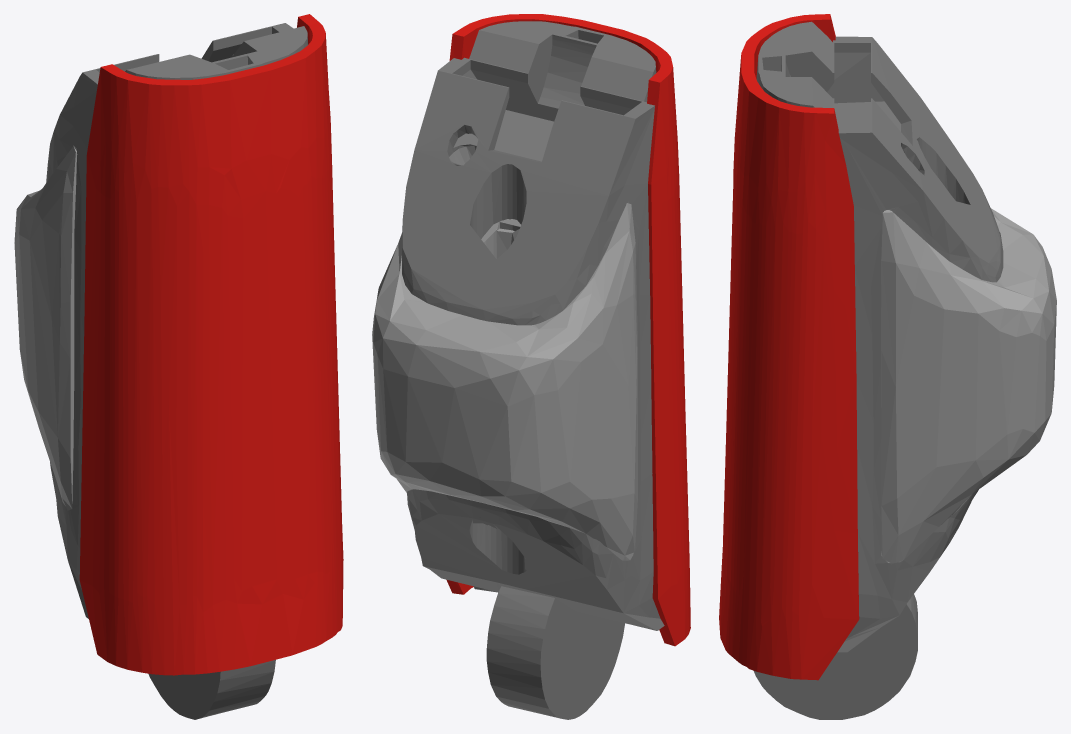
File: Index Proximal.dae
The picture shows the model from 3 angles, left to right: view 1: azimuth 30°, elevation 25°; view 2: azimuth 150°, elevation 25°; view 3: azimuth 270°, elevation 25°; orthographic projection. The views are drawn at different scales.
Visible parts, largest first — view 1: Index_Proximal_Cover-reduced, Index_Proximal_Phalanx-reduced, Index_Proximal_Pad-reduced; view 2: Index_Proximal_Phalanx-reduced, Index_Proximal_Pad-reduced, Index_Proximal_Cover-reduced; view 3: Index_Proximal_Cover-reduced, Index_Proximal_Phalanx-reduced, Index_Proximal_Pad-reduced.
Part boxes in pixels (x1,y1,x2,y2): Index_Proximal_Cover-reduced: (79,14,343,675); Index_Proximal_Phalanx-reduced: (46,23,308,719); Index_Proximal_Pad-reduced: (14,146,77,510); Index_Proximal_Phalanx-reduced: (402,21,664,719); Index_Proximal_Pad-reduced: (372,203,637,560); Index_Proximal_Cover-reduced: (446,14,690,646); Index_Proximal_Cover-reduced: (719,14,859,680); Index_Proximal_Phalanx-reduced: (754,21,1003,719); Index_Proximal_Pad-reduced: (881,208,1056,562).
Bounding box in the file's own units: 0.0196 × 0.0258 × 0.0542.
